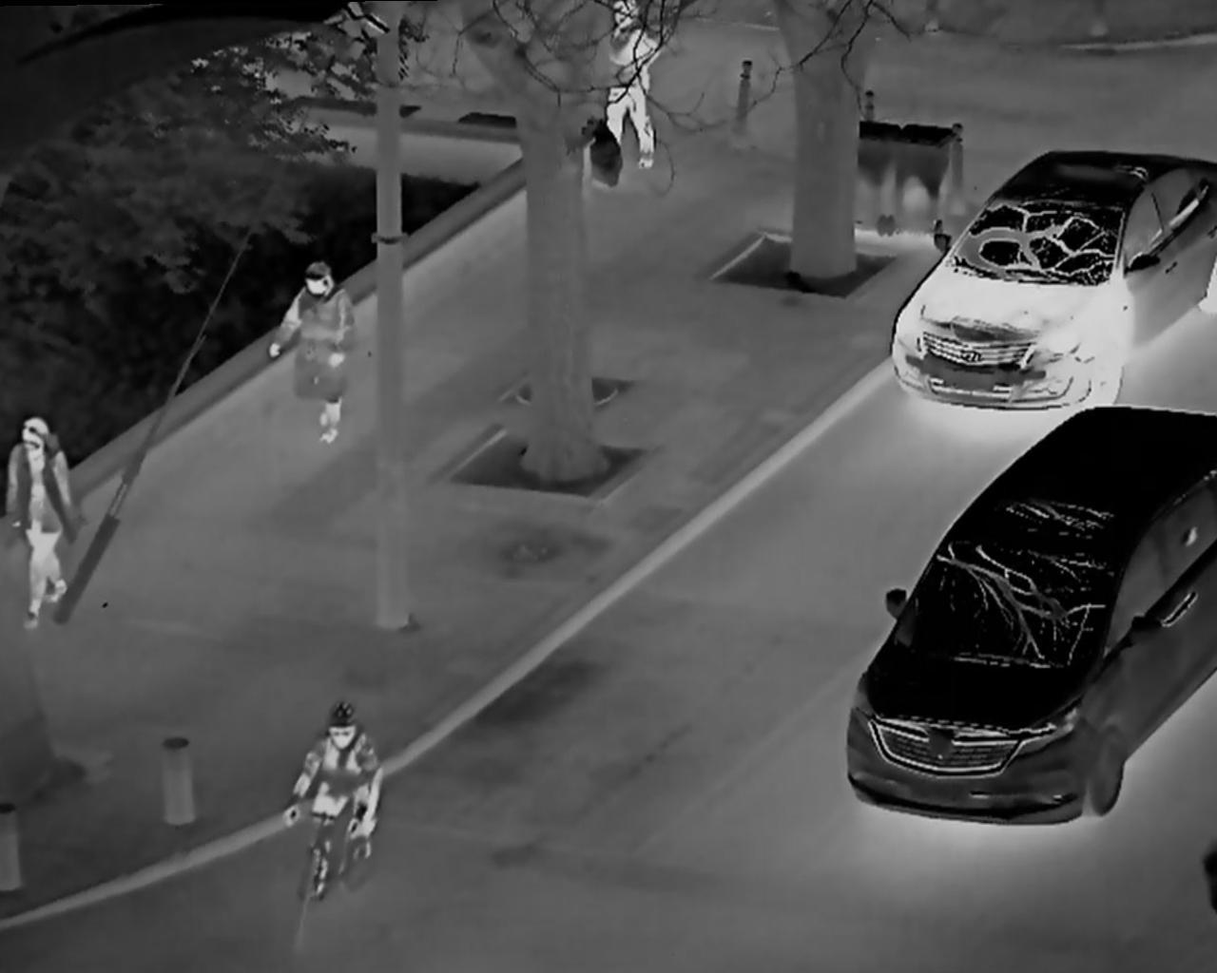person: (270, 676, 406, 930), (3, 404, 95, 633), (268, 260, 357, 457)
